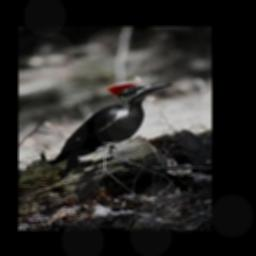Woodpecker: (48, 81, 171, 175)
